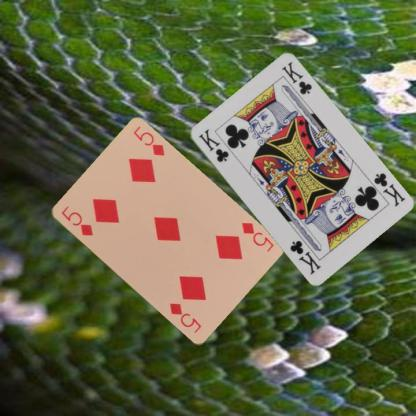5d: (58, 203, 95, 237), (238, 220, 275, 254)
Kc: (371, 170, 406, 208), (196, 126, 230, 164)
